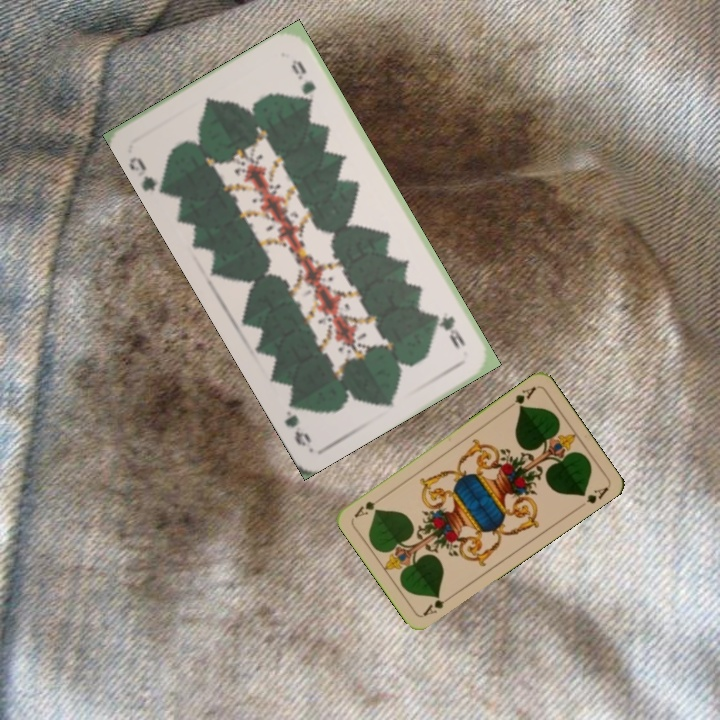G9: (125, 152, 167, 197), (432, 310, 468, 353)
GA: (503, 383, 539, 411), (419, 591, 455, 619)
